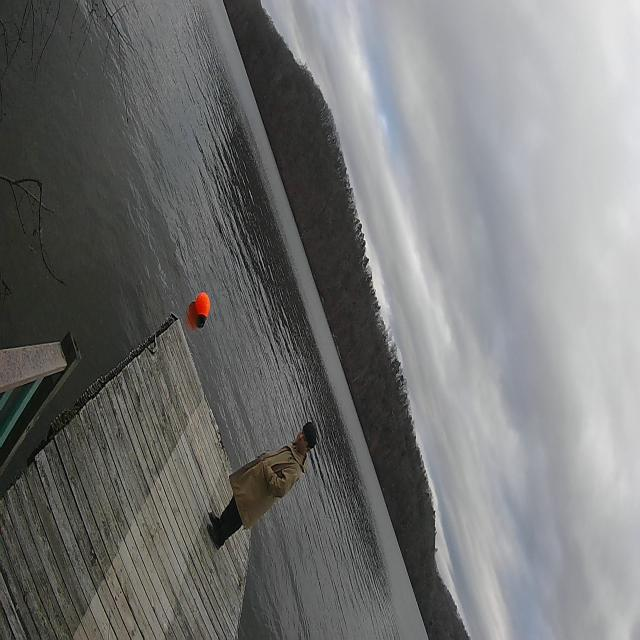Buoy: (195, 288, 211, 330)
